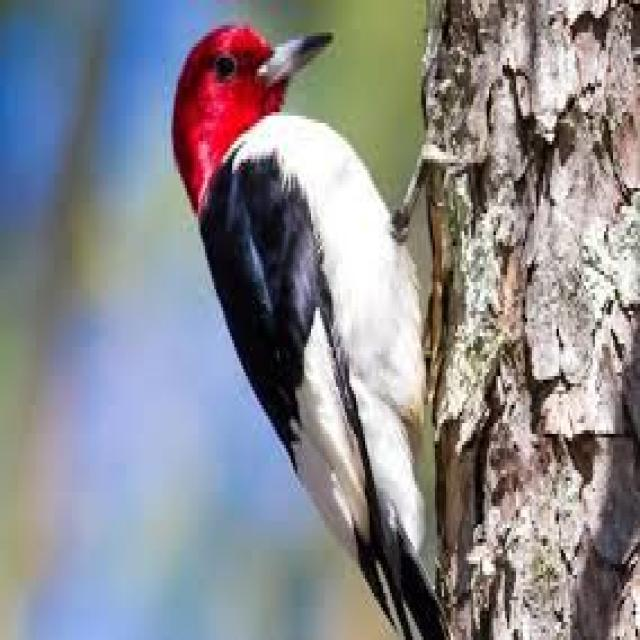Woodpecker: (168, 16, 449, 639)
